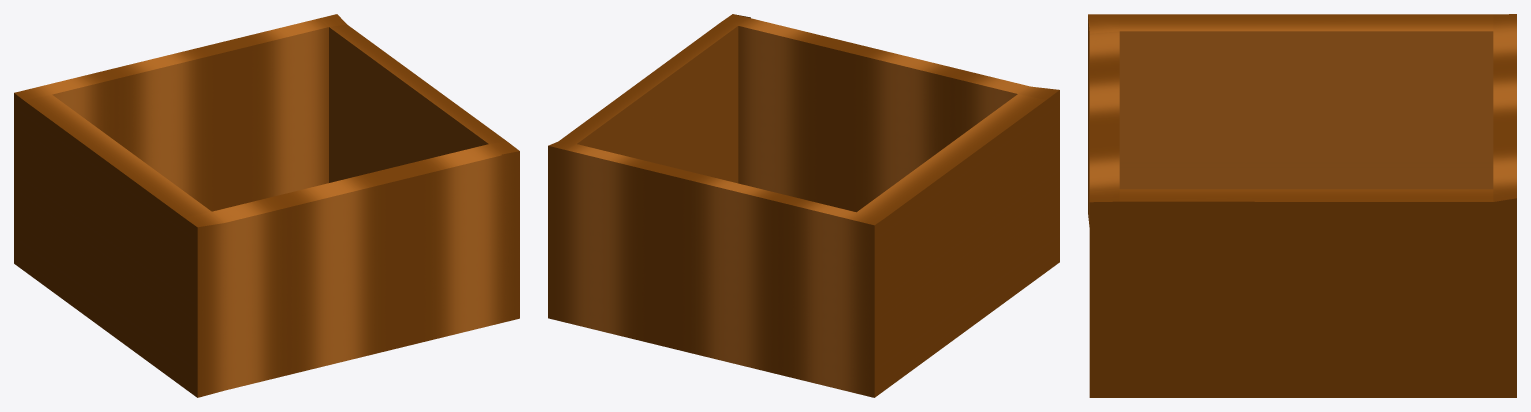
3 renders of one model, left to right at view 1: azimuth 30°, elevation 25°; view 2: azimuth 150°, elevation 25°; view 3: azimuth 270°, elevation 25°, orthographic. The views are drawn at different scales.
Visible parts, largest first — view 1: box; view 2: box; view 3: box.
Boxes of the visible parts, box(x1,y1,x2,y2) form: box: box(14, 14, 519, 397); box: box(548, 14, 1059, 397); box: box(1088, 14, 1516, 397).
Bounding box in the file's own units: 754 × 382 × 741.
Materials: 1 (1 with a texture image).
